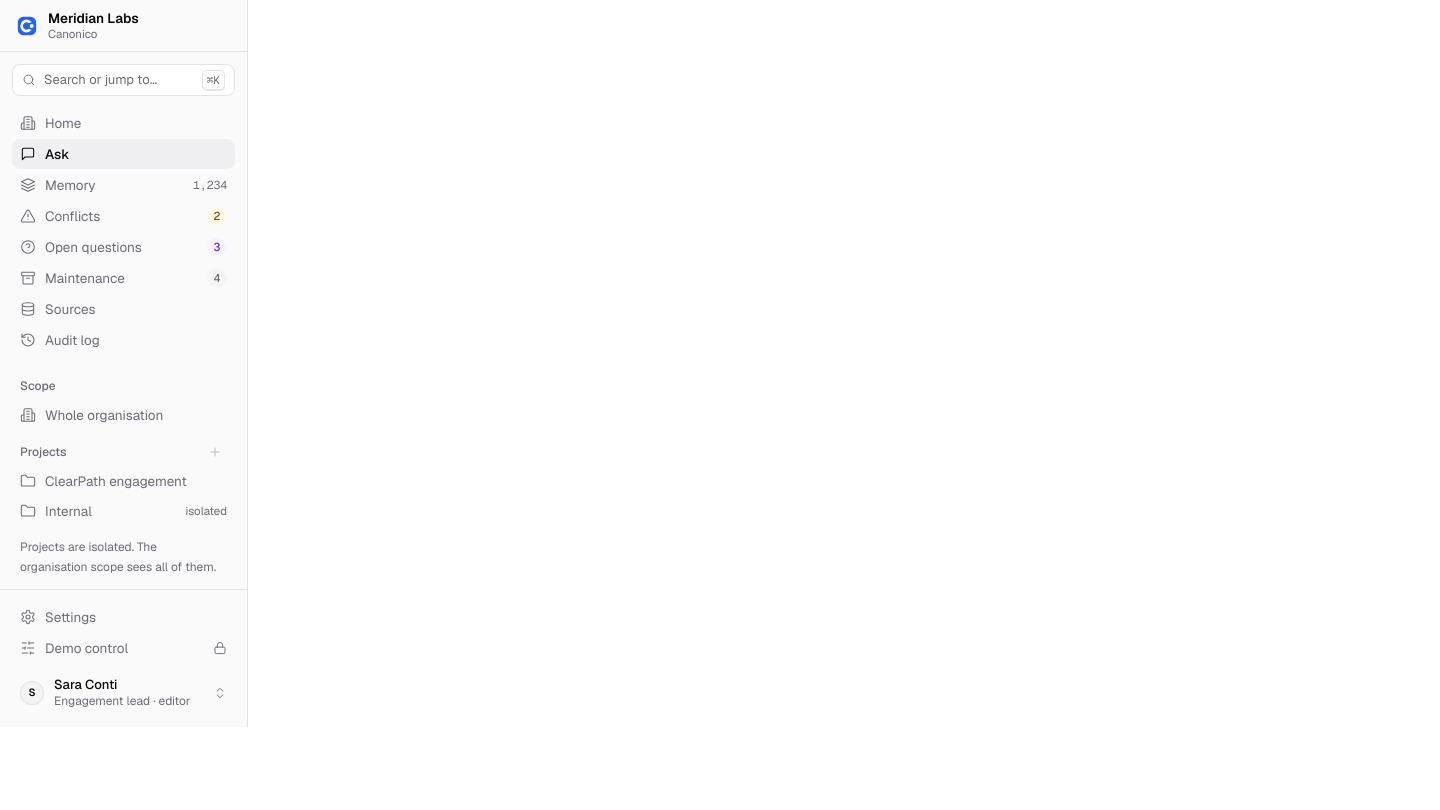
Scenario: Sidebar › new project › an editor cannot create projects
The image size is (1440, 810).
Click the button named "New project" at (215, 452), box [203, 440, 227, 464]
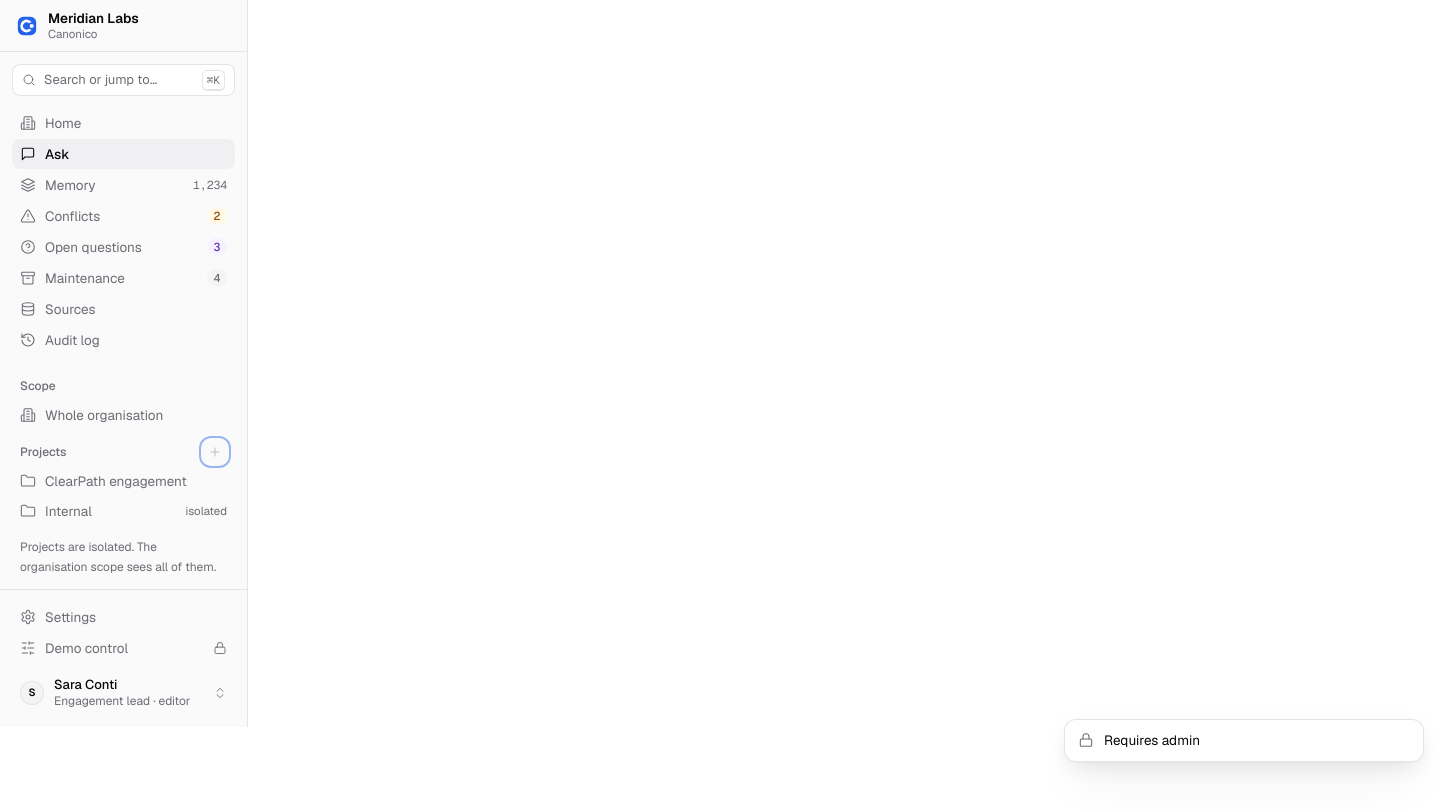
Check: the text "Requires admin" is shown, box [1104, 731, 1200, 749]
